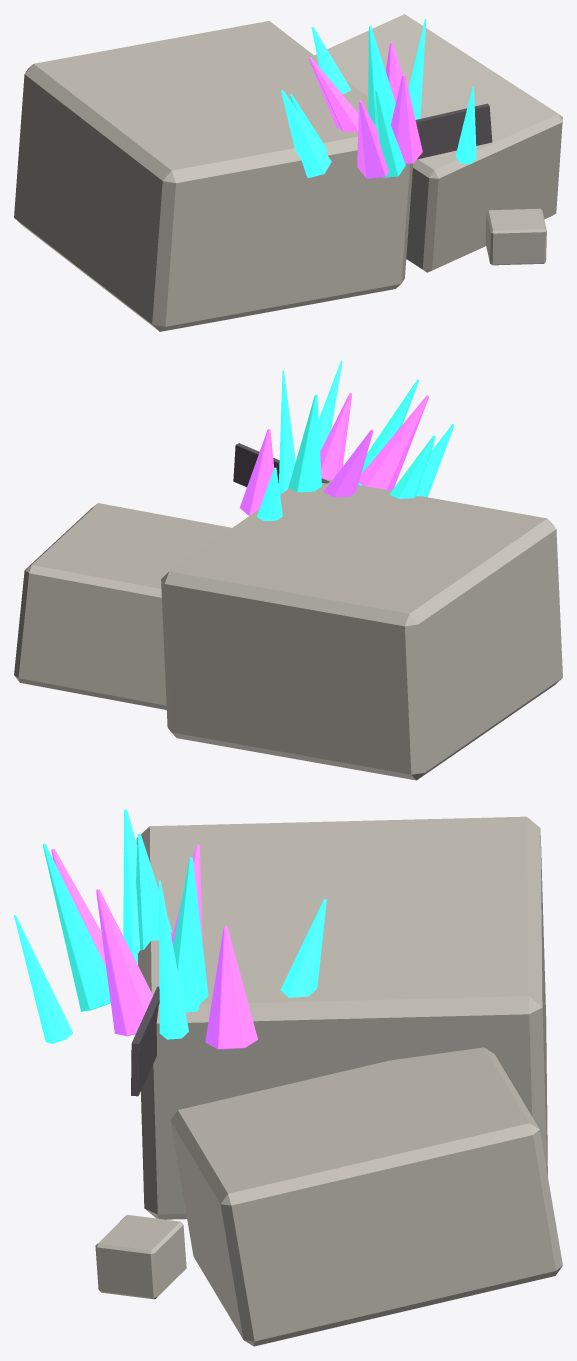
File: runtime.glb
3 views of the same model, one above another, from view 1: azimuth 30°, elevation 25°; view 2: azimuth 150°, elevation 25°; view 3: azimuth 270°, elevation 25° (orthographic). The views are drawn at different scales.
Parts seen in each view (by area): view 1: crystal-ruins-crystal-growth-v07_stone_00_nocol, crystal-ruins-crystal-growth-v07_stone_01_nocol, crystal-ruins-crystal-growth-v07_stone_10_nocol, crystal-ruins-crystal-growth-v07_fracture_01_nocol, crystal-ruins-crystal-growth-v07_crystal_06_nocol, crystal-ruins-crystal-growth-v07_crystal_10_nocol, crystal-ruins-crystal-growth-v07_crystal_07_nocol, crystal-ruins-crystal-growth-v07_crystal_02_nocol, crystal-ruins-crystal-growth-v07_crystal_04_nocol, crystal-ruins-crystal-growth-v07_crystal_08_nocol, crystal-ruins-crystal-growth-v07_crystal_09_nocol, crystal-ruins-crystal-growth-v07_crystal_00_nocol (+2 smaller); view 2: crystal-ruins-crystal-growth-v07_stone_00_nocol, crystal-ruins-crystal-growth-v07_stone_01_nocol, crystal-ruins-crystal-growth-v07_crystal_07_nocol, crystal-ruins-crystal-growth-v07_crystal_02_nocol, crystal-ruins-crystal-growth-v07_crystal_10_nocol, crystal-ruins-crystal-growth-v07_crystal_01_nocol, crystal-ruins-crystal-growth-v07_crystal_04_nocol, crystal-ruins-crystal-growth-v07_crystal_00_nocol, crystal-ruins-crystal-growth-v07_crystal_05_nocol, crystal-ruins-crystal-growth-v07_crystal_08_nocol, crystal-ruins-crystal-growth-v07_fracture_01_nocol, crystal-ruins-crystal-growth-v07_crystal_06_nocol (+2 smaller); view 3: crystal-ruins-crystal-growth-v07_stone_00_nocol, crystal-ruins-crystal-growth-v07_stone_01_nocol, crystal-ruins-crystal-growth-v07_stone_10_nocol, crystal-ruins-crystal-growth-v07_crystal_10_nocol, crystal-ruins-crystal-growth-v07_crystal_08_nocol, crystal-ruins-crystal-growth-v07_crystal_01_nocol, crystal-ruins-crystal-growth-v07_crystal_02_nocol, crystal-ruins-crystal-growth-v07_crystal_00_nocol, crystal-ruins-crystal-growth-v07_crystal_09_nocol, crystal-ruins-crystal-growth-v07_crystal_03_nocol, crystal-ruins-crystal-growth-v07_crystal_05_nocol, crystal-ruins-crystal-growth-v07_crystal_06_nocol (+2 smaller).
Part boxes in pixels (box(x1,y1,x2,y2)): crystal-ruins-crystal-growth-v07_stone_00_nocol: box(14, 21, 413, 331); crystal-ruins-crystal-growth-v07_stone_01_nocol: box(314, 14, 562, 272); crystal-ruins-crystal-growth-v07_stone_10_nocol: box(485, 208, 546, 265); crystal-ruins-crystal-growth-v07_fracture_01_nocol: box(415, 103, 492, 159); crystal-ruins-crystal-growth-v07_crystal_06_nocol: box(281, 90, 331, 177); crystal-ruins-crystal-growth-v07_crystal_10_nocol: box(391, 74, 422, 163); crystal-ruins-crystal-growth-v07_crystal_07_nocol: box(357, 100, 388, 178); crystal-ruins-crystal-growth-v07_crystal_02_nocol: box(368, 26, 395, 124); crystal-ruins-crystal-growth-v07_crystal_04_nocol: box(308, 57, 358, 132); crystal-ruins-crystal-growth-v07_crystal_08_nocol: box(375, 89, 405, 177); crystal-ruins-crystal-growth-v07_crystal_09_nocol: box(455, 86, 476, 163); crystal-ruins-crystal-growth-v07_crystal_00_nocol: box(408, 19, 426, 119); crystal-ruins-crystal-growth-v07_stone_00_nocol: box(161, 479, 562, 780); crystal-ruins-crystal-growth-v07_stone_01_nocol: box(14, 503, 231, 709); crystal-ruins-crystal-growth-v07_crystal_07_nocol: box(359, 395, 428, 490); crystal-ruins-crystal-growth-v07_crystal_02_nocol: box(288, 394, 321, 492); crystal-ruins-crystal-growth-v07_crystal_10_nocol: box(320, 393, 352, 480); crystal-ruins-crystal-growth-v07_crystal_01_nocol: box(239, 429, 273, 515); crystal-ruins-crystal-growth-v07_crystal_04_nocol: box(323, 429, 373, 497); crystal-ruins-crystal-growth-v07_crystal_00_nocol: box(278, 370, 295, 494); crystal-ruins-crystal-growth-v07_crystal_05_nocol: box(389, 435, 435, 498); crystal-ruins-crystal-growth-v07_crystal_08_nocol: box(358, 379, 418, 485); crystal-ruins-crystal-growth-v07_fracture_01_nocol: box(233, 443, 329, 487); crystal-ruins-crystal-growth-v07_crystal_06_nocol: box(416, 424, 454, 497); crystal-ruins-crystal-growth-v07_stone_00_nocol: box(136, 816, 547, 1219); crystal-ruins-crystal-growth-v07_stone_01_nocol: box(170, 1047, 562, 1346); crystal-ruins-crystal-growth-v07_stone_10_nocol: box(95, 1215, 186, 1299); crystal-ruins-crystal-growth-v07_crystal_10_nocol: box(96, 889, 152, 1036); crystal-ruins-crystal-growth-v07_crystal_08_nocol: box(43, 843, 110, 1011); crystal-ruins-crystal-growth-v07_crystal_01_nocol: box(205, 925, 257, 1049); crystal-ruins-crystal-growth-v07_crystal_02_nocol: box(173, 857, 208, 1012); crystal-ruins-crystal-growth-v07_crystal_00_nocol: box(158, 880, 188, 1039); crystal-ruins-crystal-growth-v07_crystal_09_nocol: box(14, 915, 72, 1043); crystal-ruins-crystal-growth-v07_crystal_03_nocol: box(280, 899, 326, 997); crystal-ruins-crystal-growth-v07_crystal_05_nocol: box(136, 833, 171, 950); crystal-ruins-crystal-growth-v07_crystal_06_nocol: box(123, 809, 140, 963).
Size of the model in its own units: 6.29 by 3.67 by 4.94.
